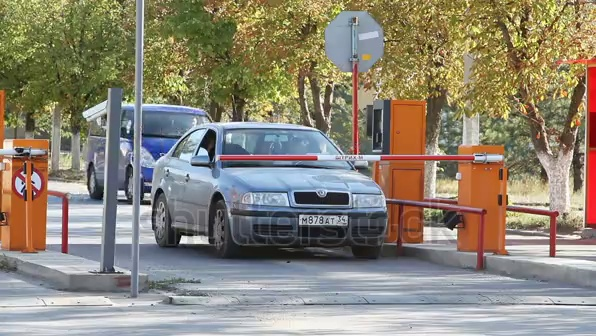licenseplate: (295, 213, 349, 231)
